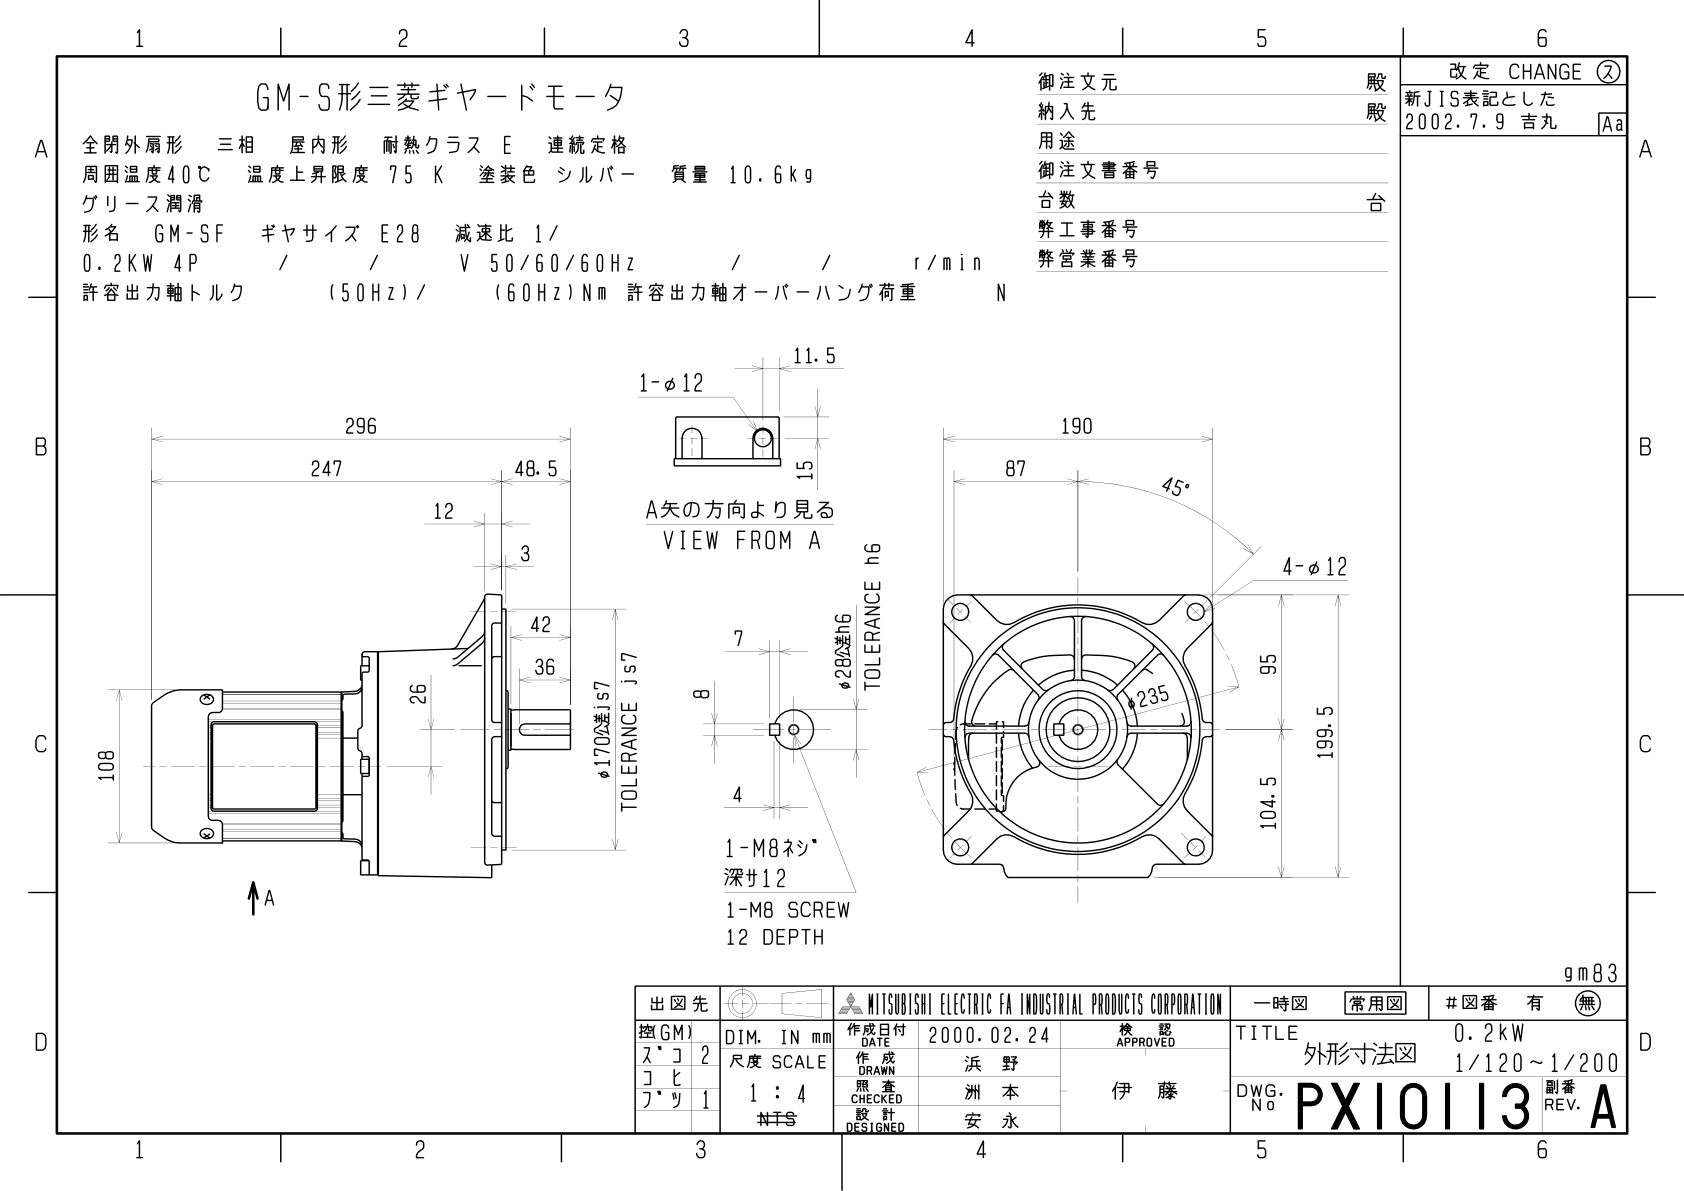GM_S_屋内＿三相_フランジ: (67, 322, 1383, 967)
